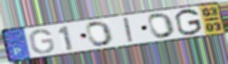1: (57, 25, 74, 52)
G: (173, 8, 204, 37), (28, 28, 56, 55)
I: (122, 17, 136, 44)
O: (85, 20, 115, 48), (147, 12, 177, 39)
